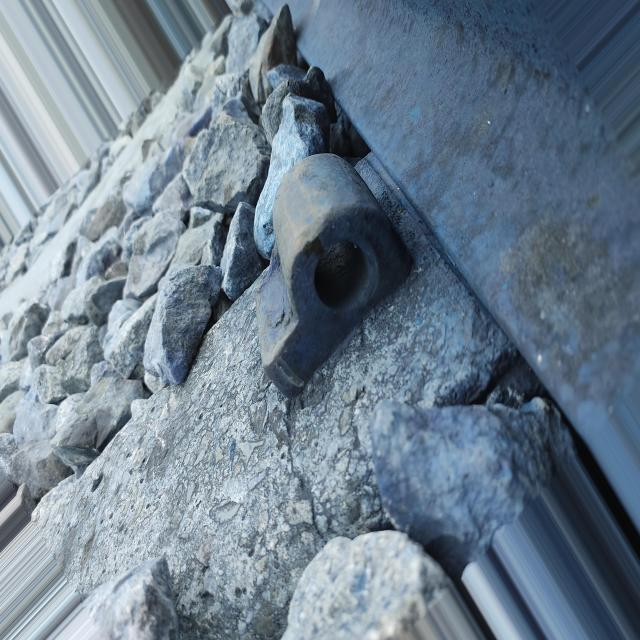Missing Fastener: (252, 142, 432, 400)
